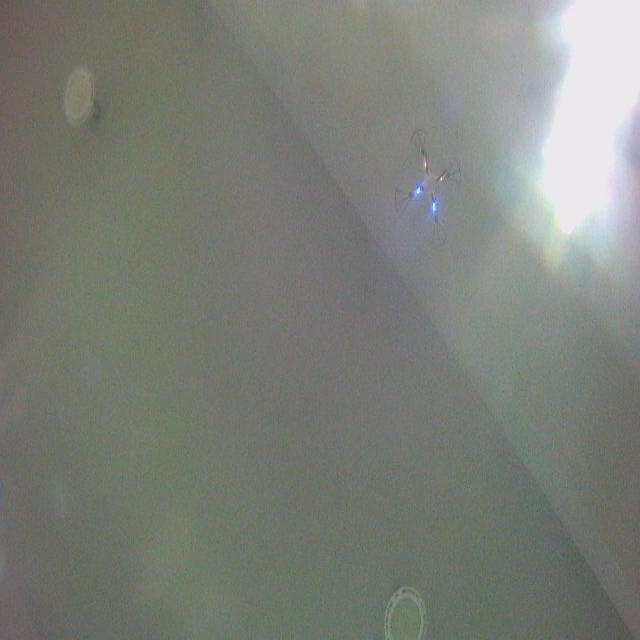drone: (393, 123, 463, 250)
